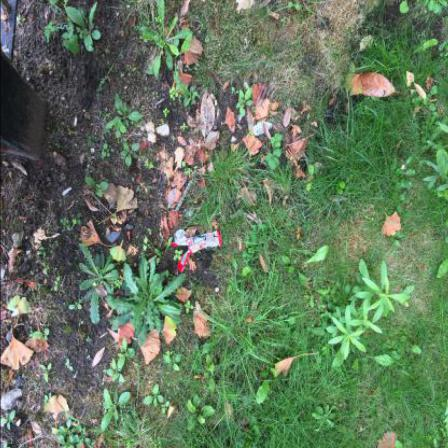Plastic bag - wrapper: (171, 231, 223, 275), (176, 181, 193, 213)
